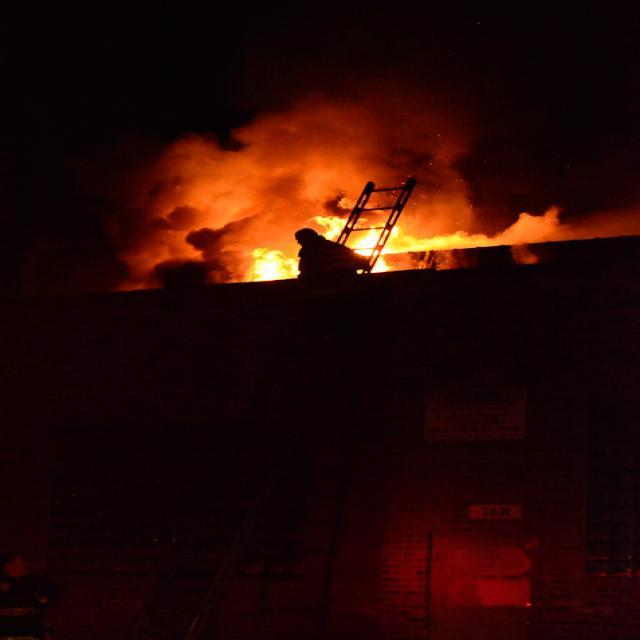Fire: (324, 210, 390, 268), (247, 242, 284, 281)
Smoke: (252, 118, 408, 198)
